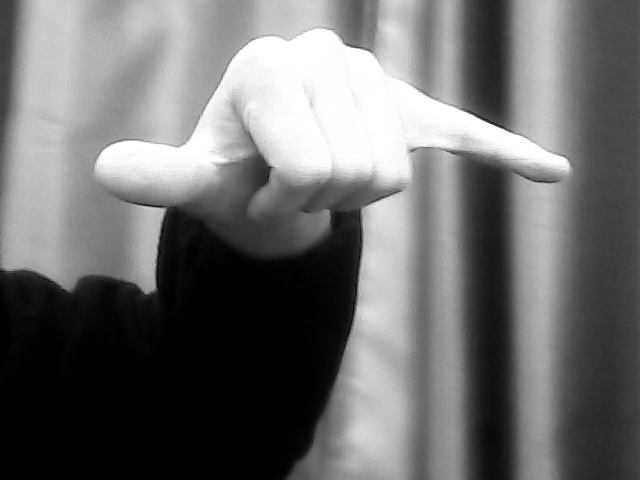aloha: (88, 28, 587, 251)
